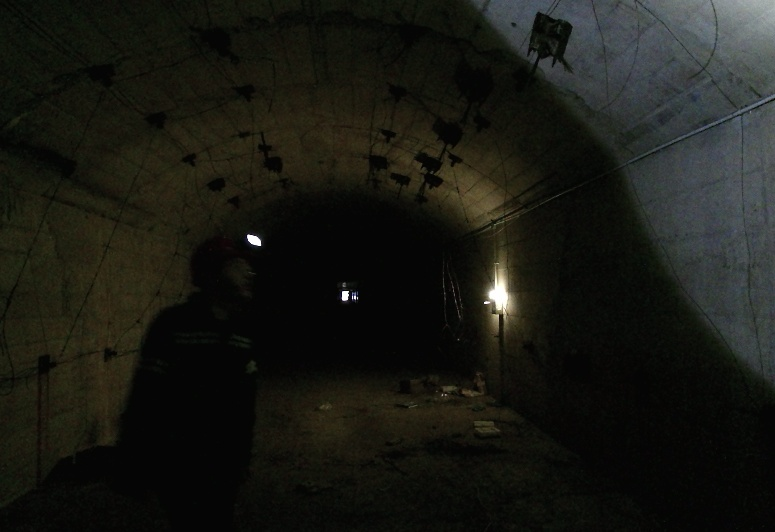person: (105, 231, 289, 532)
